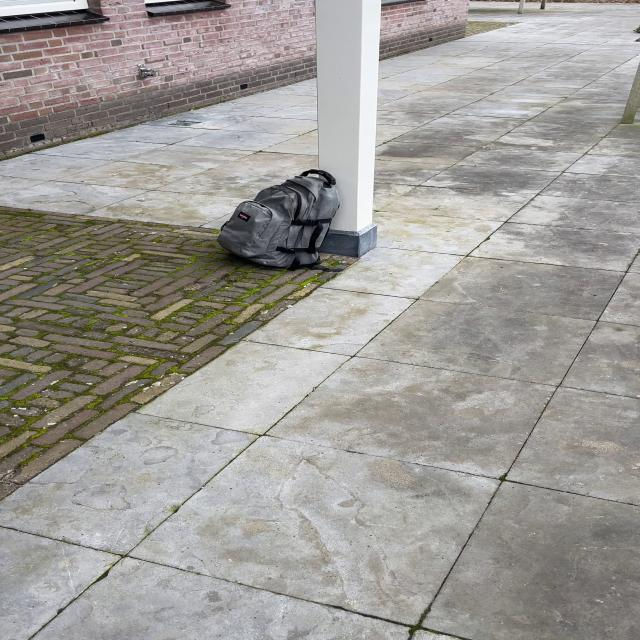backpack: (210, 168, 382, 273)
